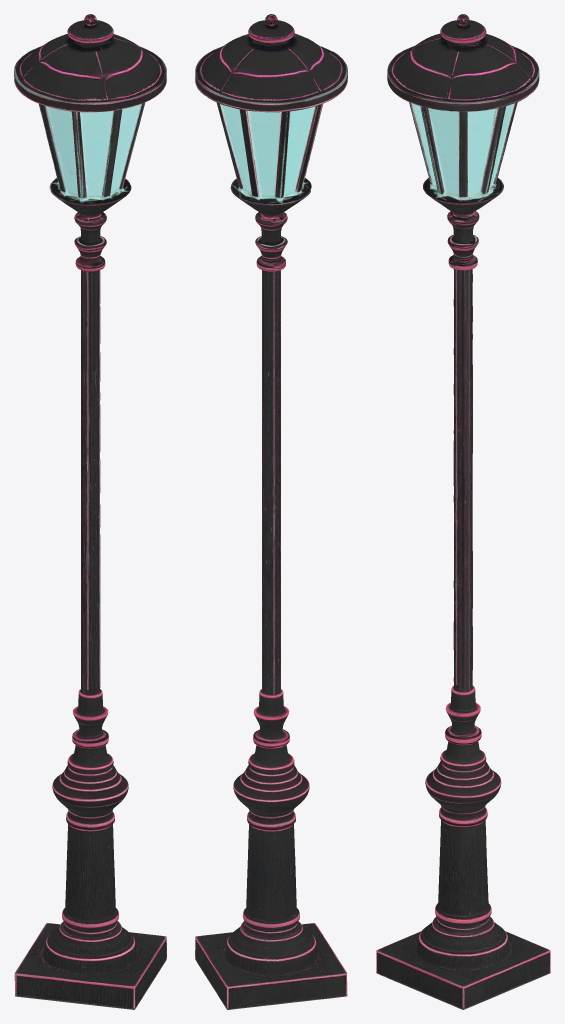
The model's file is prop_lamppost.glb.
3 views of the same model, side by side, from view 1: azimuth 30°, elevation 25°; view 2: azimuth 150°, elevation 25°; view 3: azimuth 270°, elevation 25° (orthographic).
Visible parts, largest first — view 1: Mesh_0; view 2: Mesh_0; view 3: Mesh_0.
Part boxes in pixels (left/top/right/bottom): Mesh_0: left=14, top=14, right=166, bottom=1009; Mesh_0: left=195, top=14, right=347, bottom=1009; Mesh_0: left=376, top=14, right=550, bottom=1009.
Bounding box in the file's own units: 0.3137 × 1.9 × 0.3135.
1 material, 1 textured.
